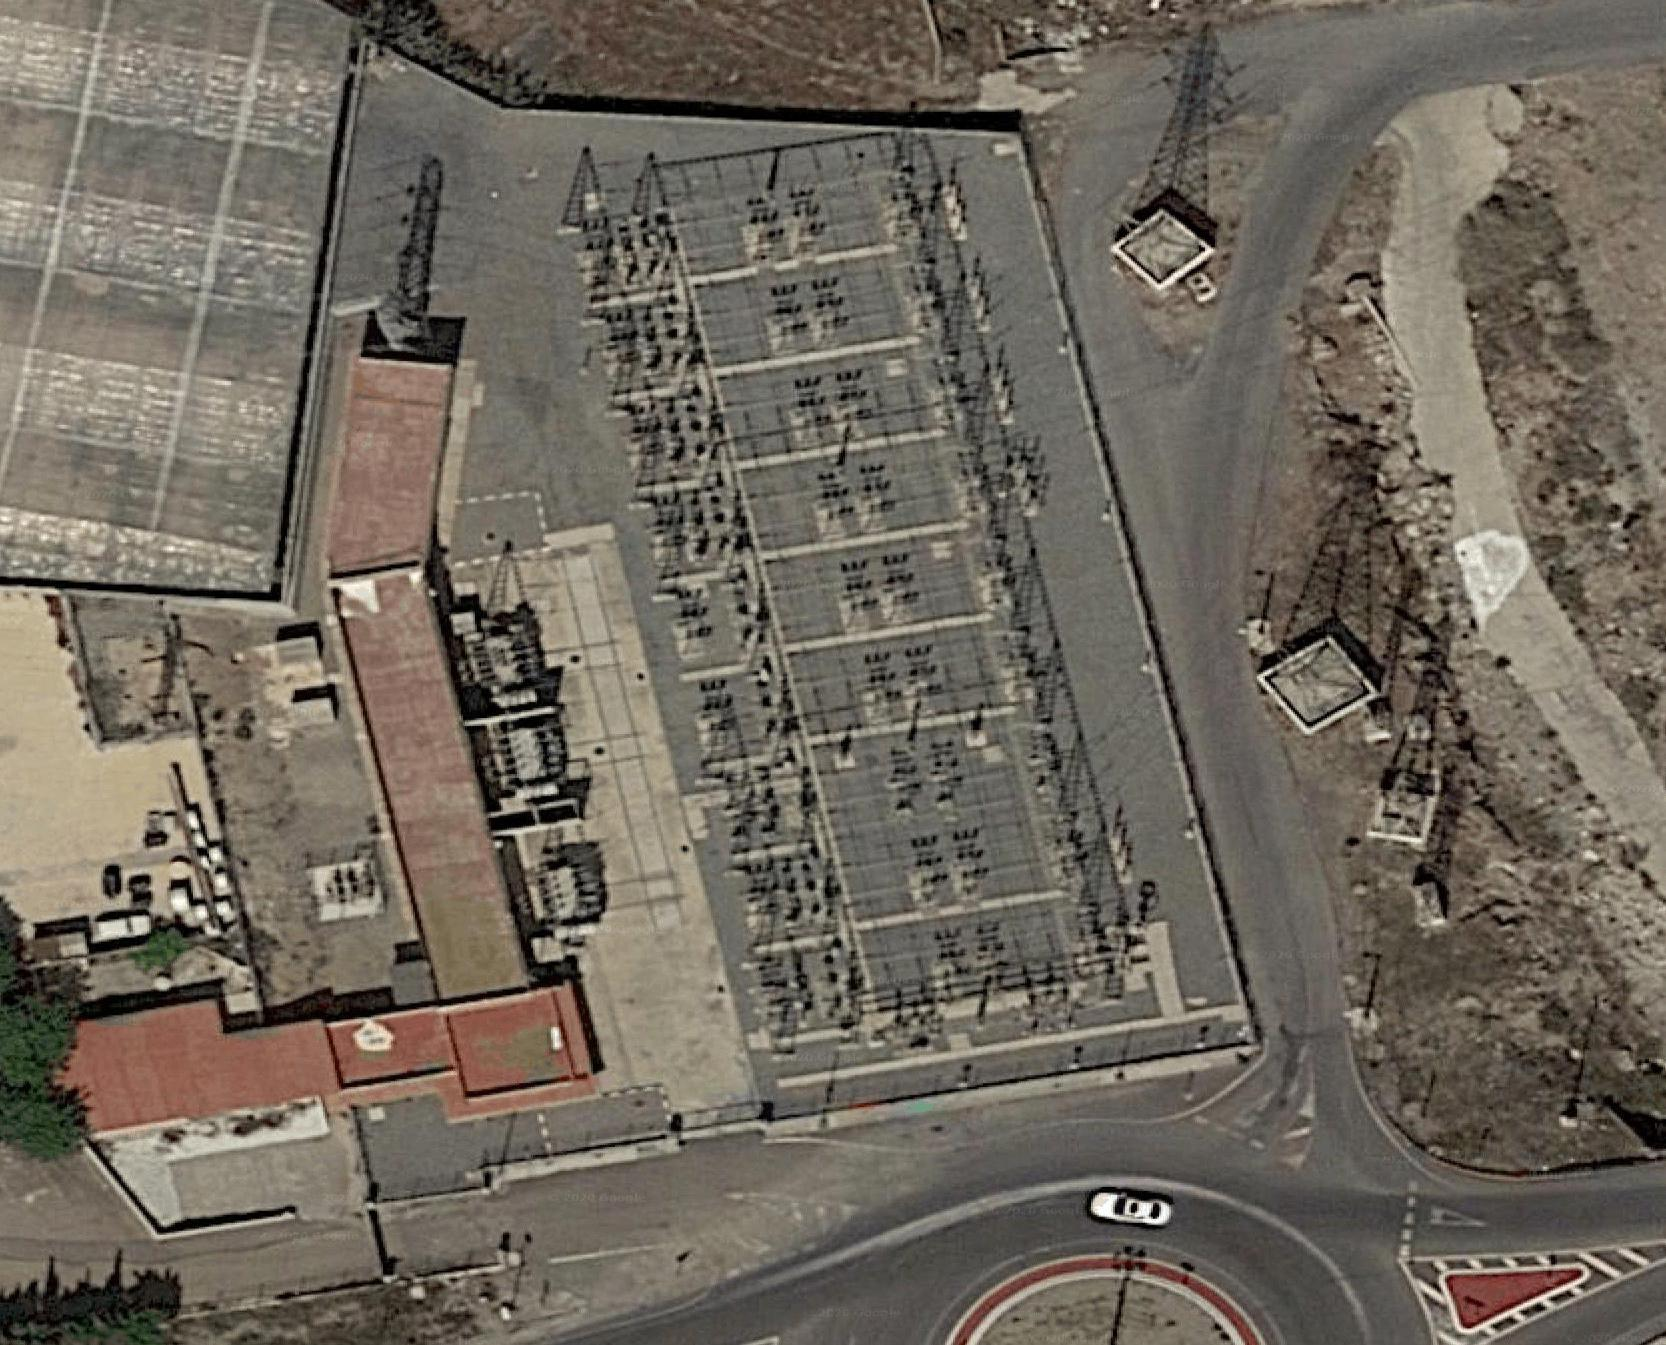substation: (436, 96, 1166, 1080)
